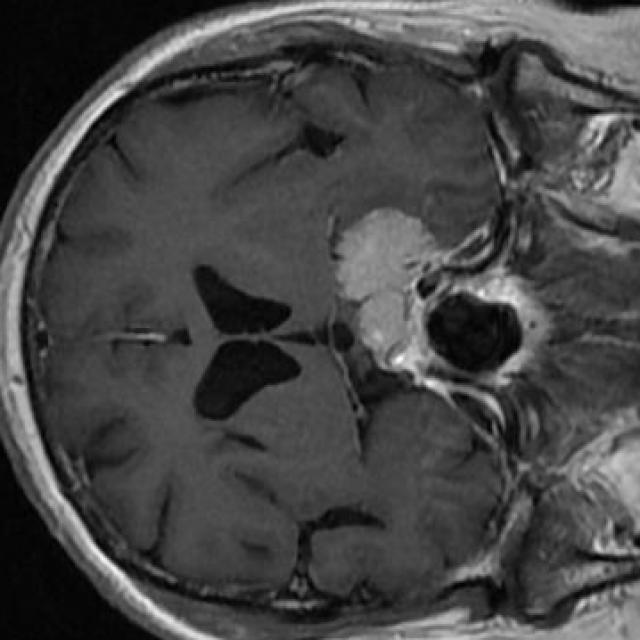meningioma: (335, 209, 439, 367)
